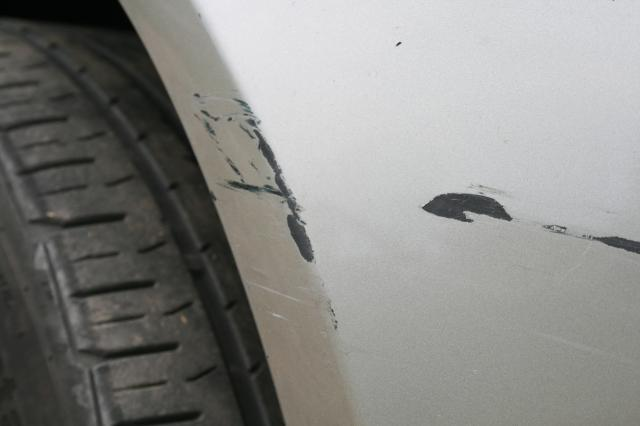scratch: (192, 85, 342, 332), (417, 185, 640, 263)
